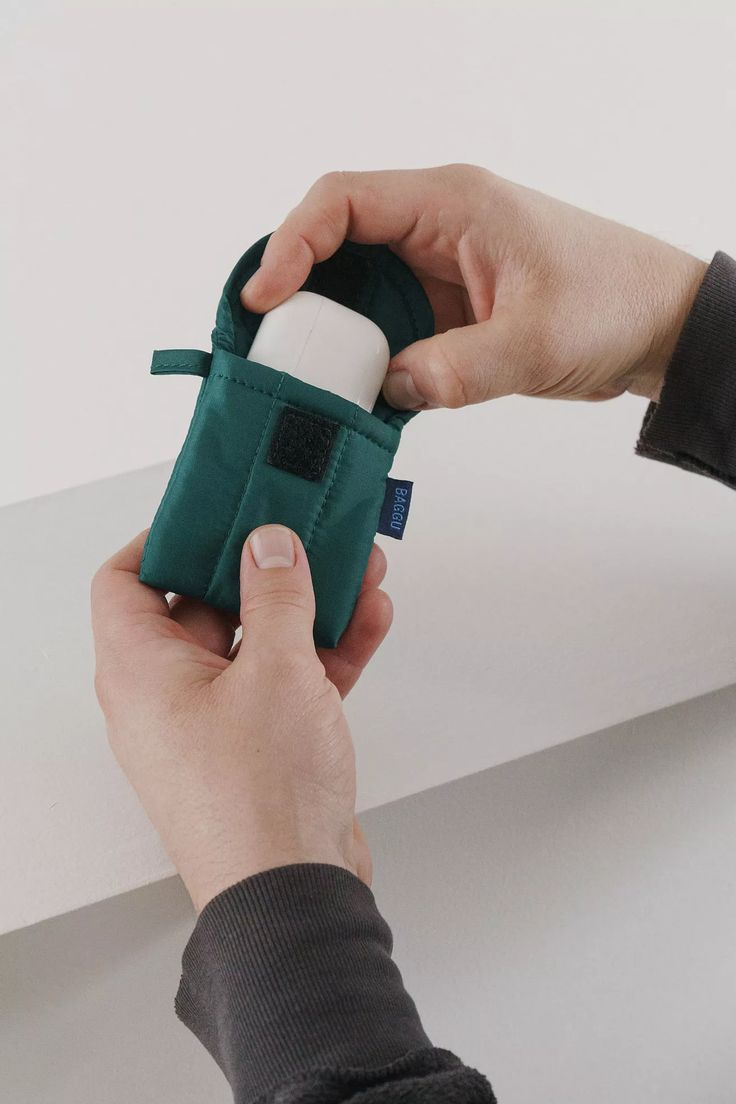nylon: (139, 229, 437, 650)
